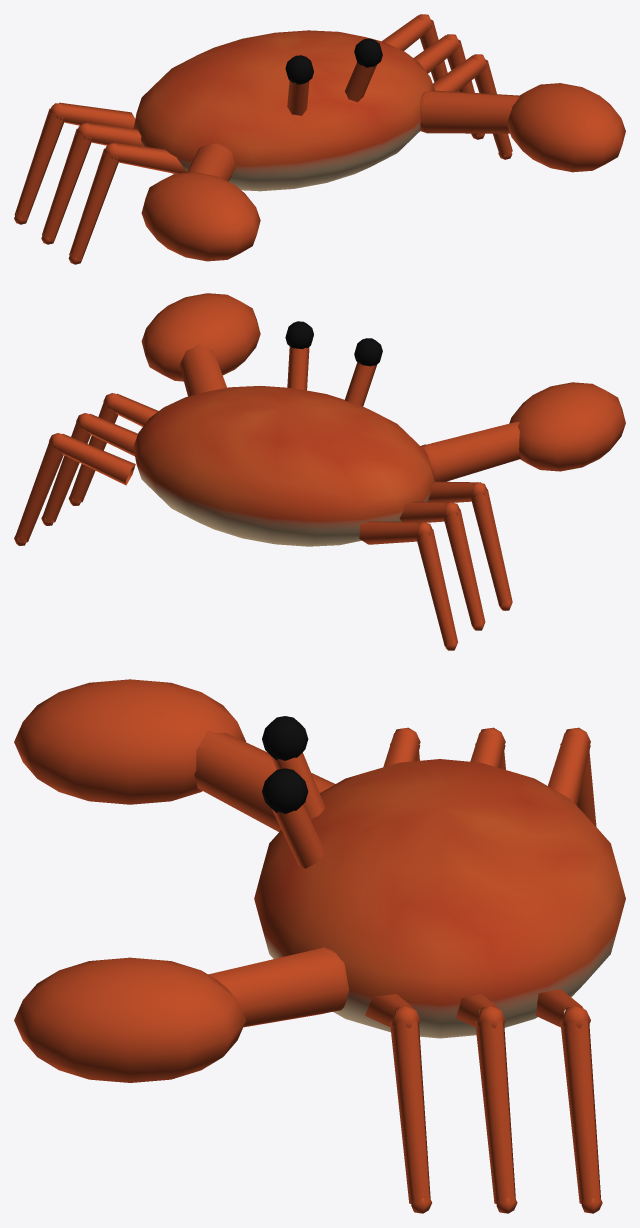
The model's file is Crab.glb.
3 renders of one model, top to bottom at view 1: azimuth 30°, elevation 25°; view 2: azimuth 150°, elevation 25°; view 3: azimuth 270°, elevation 25°, orthographic. The views are drawn at different scales.
Visible parts, largest first — view 1: Limbs, Shell, Eyes; view 2: Limbs, Shell, Eyes; view 3: Limbs, Shell, Eyes.
Part boxes in pixels (left/top/right/bottom): Limbs: left=14, top=14, right=625, bottom=264; Shell: left=133, top=30, right=434, bottom=191; Eyes: left=285, top=38, right=382, bottom=84; Limbs: left=14, top=293, right=625, bottom=650; Shell: left=133, top=386, right=434, bottom=546; Eyes: left=285, top=321, right=382, bottom=366; Limbs: left=14, top=679, right=602, bottom=1213; Shell: left=254, top=759, right=625, bottom=1038; Eyes: left=262, top=716, right=308, bottom=814.
Size of the model in its own units: 0.214 by 0.087 by 0.158.
